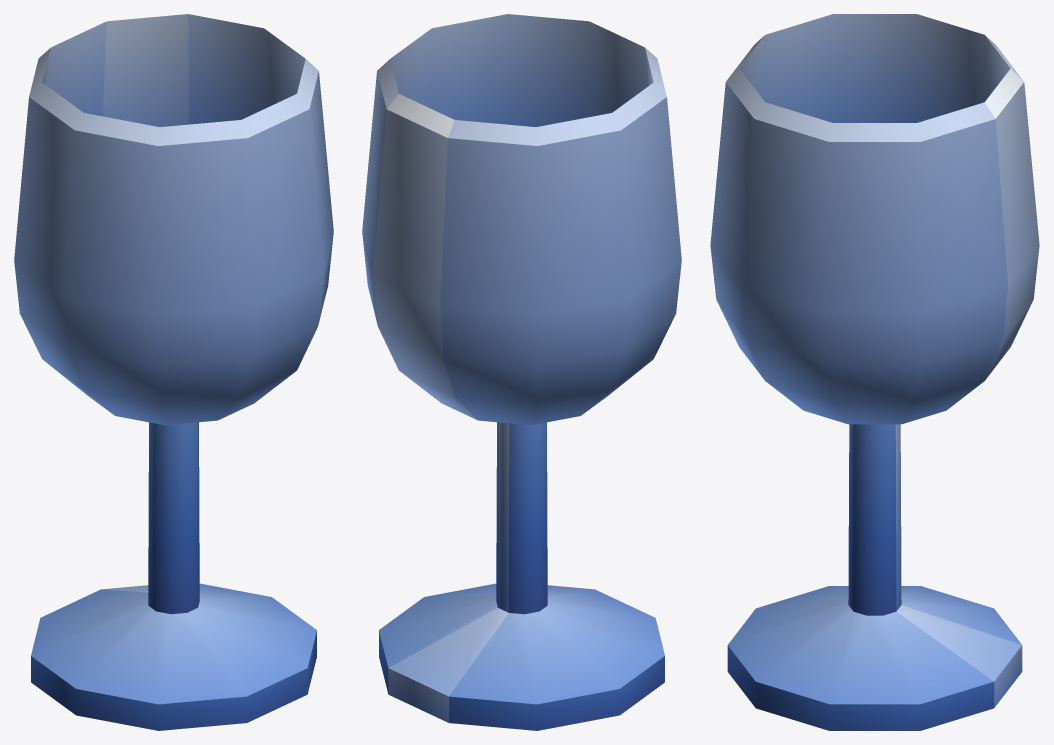
The model's file is m_RoseWine01.fbx.
The picture shows the model from 3 angles, left to right: view 1: azimuth 30°, elevation 25°; view 2: azimuth 150°, elevation 25°; view 3: azimuth 270°, elevation 25°; orthographic projection.
Parts seen in each view (by area): view 1: m_RoseWine01; view 2: m_RoseWine01; view 3: m_RoseWine01.
Boxes of the visible parts, bbox=[...] form: m_RoseWine01: bbox=[14, 14, 333, 730]; m_RoseWine01: bbox=[362, 14, 681, 730]; m_RoseWine01: bbox=[710, 14, 1039, 730].
Bounding box in the file's own units: 10.63 × 22.59 × 11.17.
